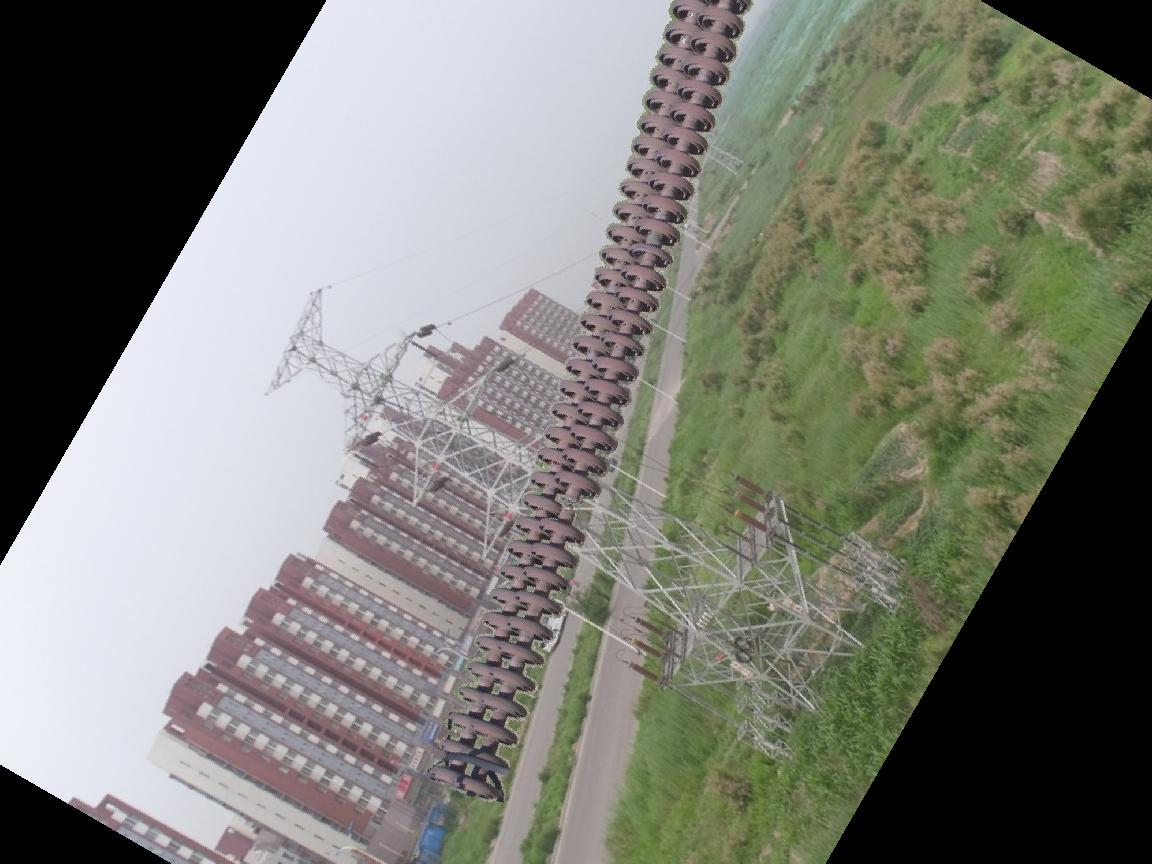insulator: (426, 1, 756, 806)
insulator_stringdrop: (537, 466, 604, 549)
